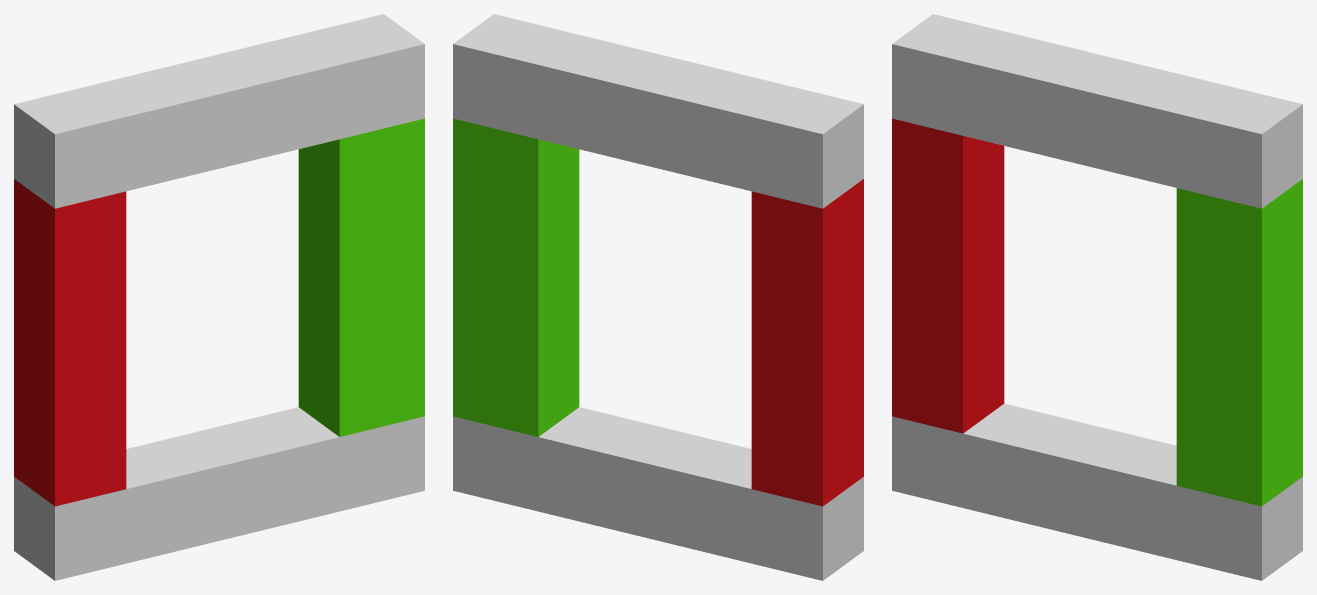
Rendered from geonodes.glb.
3 views of the same model, side by side, from view 1: azimuth 30°, elevation 25°; view 2: azimuth 150°, elevation 25°; view 3: azimuth 330°, elevation 25° (orthographic).
Parts seen in each view (by area): view 1: geometry_nodes, left_frame, right_frame, top_frame, bottom_frame; view 2: geometry_nodes, bottom_frame, right_frame, top_frame, left_frame; view 3: geometry_nodes, left_frame, right_frame, bottom_frame.
Boxes of the visible parts, <box> form: geometry_nodes: <box>14,14,424,580</box>; left_frame: <box>14,179,126,505</box>; right_frame: <box>298,136,353,436</box>; top_frame: <box>14,75,306,208</box>; bottom_frame: <box>14,407,338,534</box>; geometry_nodes: <box>453,14,863,577</box>; bottom_frame: <box>467,407,863,580</box>; right_frame: <box>467,122,579,436</box>; top_frame: <box>467,47,863,208</box>; left_frame: <box>751,191,820,503</box>; geometry_nodes: <box>892,14,1302,580</box>; left_frame: <box>892,134,1002,433</box>; right_frame: <box>1176,188,1190,488</box>; bottom_frame: <box>892,404,1176,512</box>.
Size of the model in its own units: 2.6 by 3 by 0.5.
